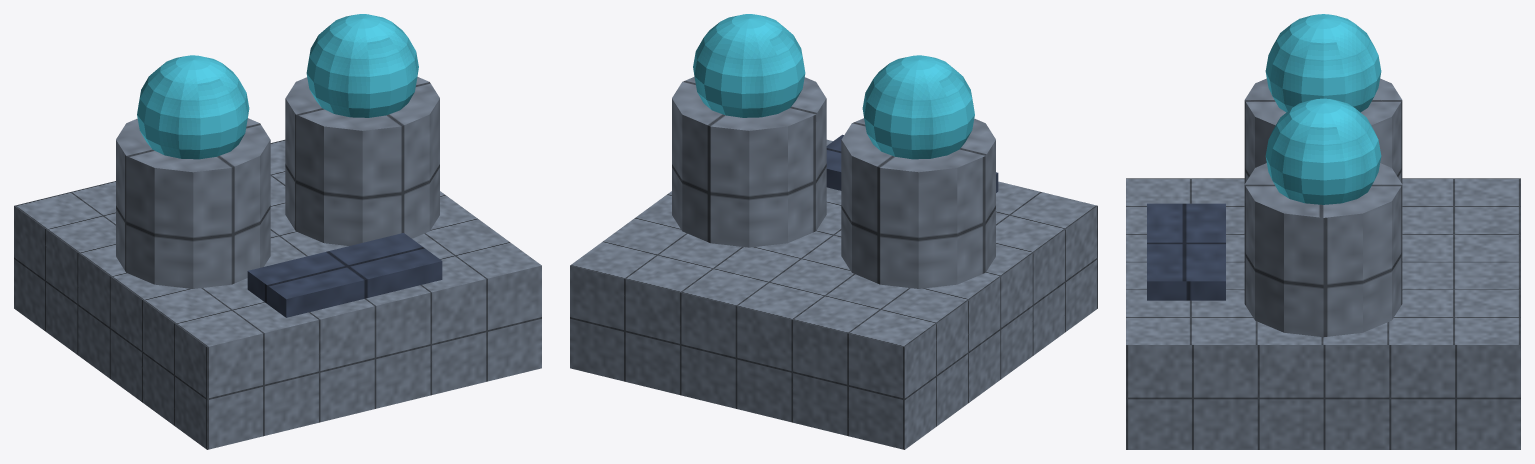
The model's file is S2상점_발전기.fbx.
3 renders of one model, left to right at view 1: azimuth 30°, elevation 25°; view 2: azimuth 150°, elevation 25°; view 3: azimuth 270°, elevation 25°, orthographic. The views are drawn at different scales.
Parts seen in each view (by area): view 1: Cube, Cylinder, Cylinder.001, Cube.001, Sphere, Sphere.001; view 2: Cube, Cylinder.001, Cylinder, Sphere, Sphere.001, Cube.001; view 3: Cube, Cylinder.001, Sphere.001, Sphere, Cube.001, Cylinder.
Part boxes in pixels (x1,y1,x2,y2): Cube: [14, 139, 541, 449]; Cylinder: [116, 118, 270, 288]; Cylinder.001: [285, 77, 439, 245]; Cube.001: [247, 233, 442, 317]; Sphere: [137, 55, 249, 159]; Sphere.001: [306, 14, 418, 117]; Cube: [570, 139, 1097, 449]; Cylinder.001: [672, 77, 826, 247]; Cylinder: [841, 118, 995, 288]; Sphere: [862, 55, 974, 159]; Sphere.001: [693, 14, 805, 117]; Cube.001: [826, 134, 998, 192]; Cube: [1126, 178, 1520, 449]; Cylinder.001: [1244, 163, 1402, 337]; Sphere.001: [1265, 98, 1381, 204]; Sphere: [1265, 14, 1381, 112]; Cube.001: [1147, 203, 1225, 300]; Cylinder: [1244, 78, 1402, 183].
Size of the model in its own units: 1.5 by 1.28 by 1.5.
